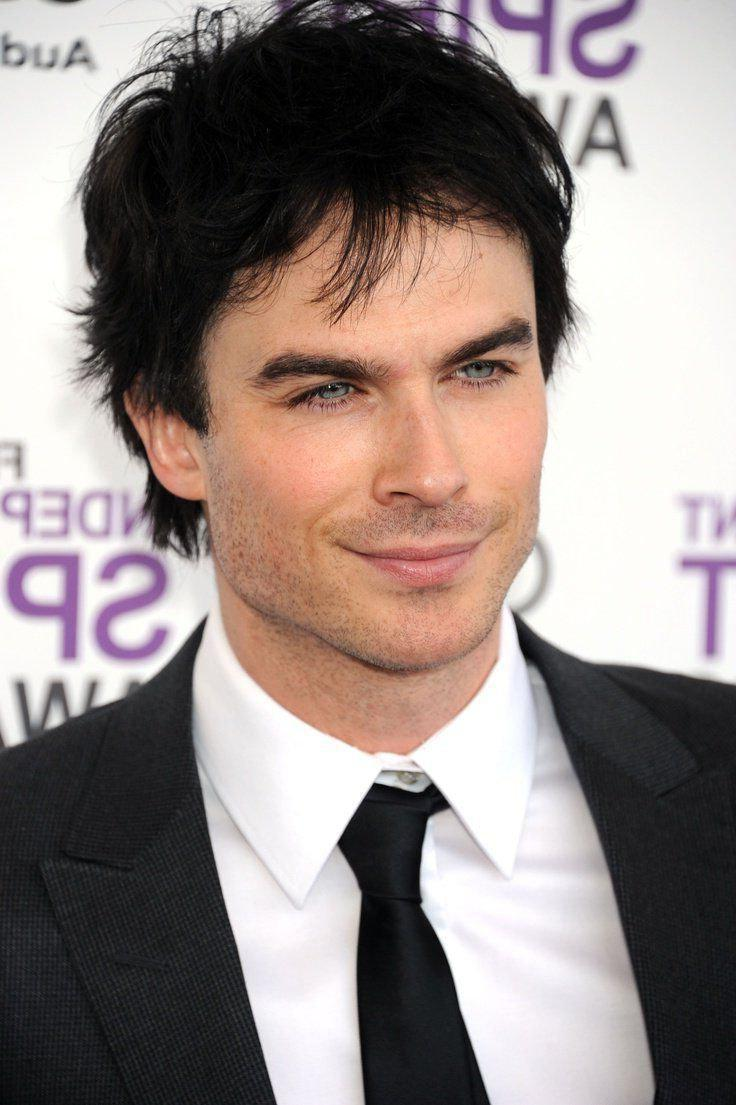Sober: (203, 243, 550, 653)
